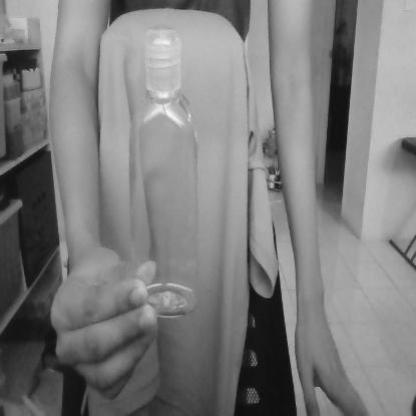Plastic Bottle: (132, 18, 204, 323)
